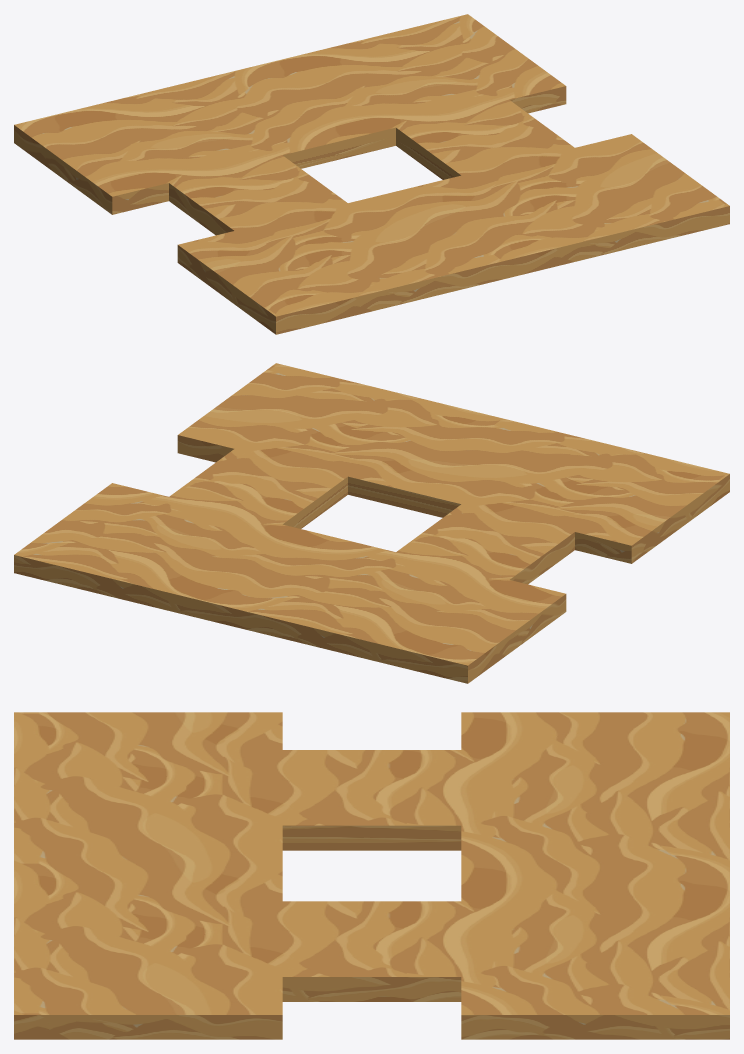
Rendered from Desert Ground 1.fbx.
3 renders of one model, top to bottom at view 1: azimuth 30°, elevation 25°; view 2: azimuth 150°, elevation 25°; view 3: azimuth 270°, elevation 25°, orthographic. The views are drawn at different scales.
Visible parts, largest first — view 1: desert_ground_1; view 2: desert_ground_1; view 3: desert_ground_1.
Boxes of the visible parts, x1=… form: desert_ground_1: x1=14, y1=14, x2=729, y2=334; desert_ground_1: x1=14, y1=363, x2=729, y2=683; desert_ground_1: x1=14, y1=712, x2=729, y2=1039.
Bounding box in the file's own units: 1612 × 61.69 × 1612.
